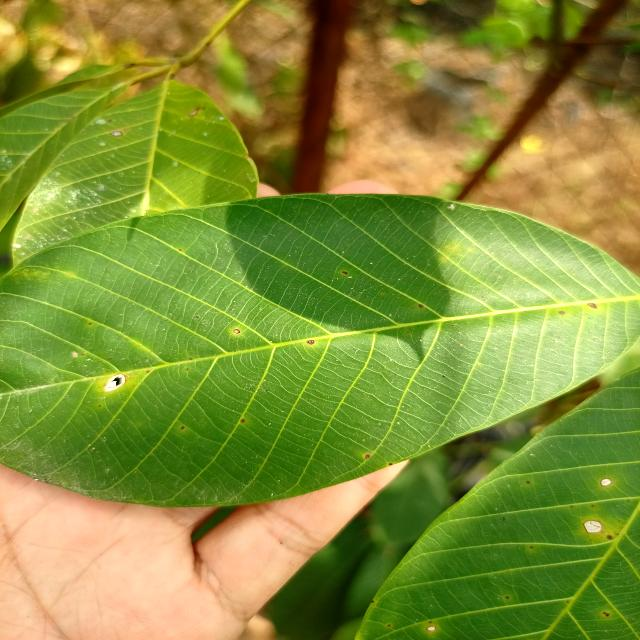Colletotrichum: (583, 520, 602, 532), (600, 478, 612, 487), (587, 302, 597, 308), (426, 626, 436, 632), (233, 328, 240, 334), (308, 340, 314, 345), (607, 535, 612, 540), (418, 304, 423, 308), (526, 481, 530, 484)
